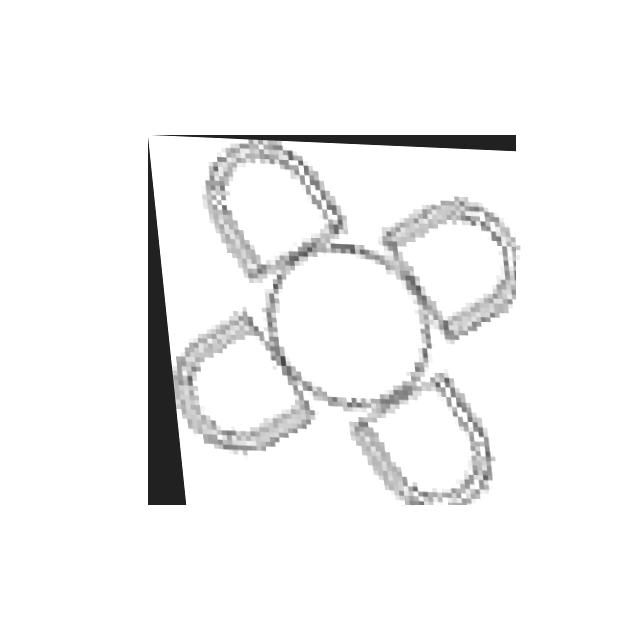table: (148, 135, 516, 505)
